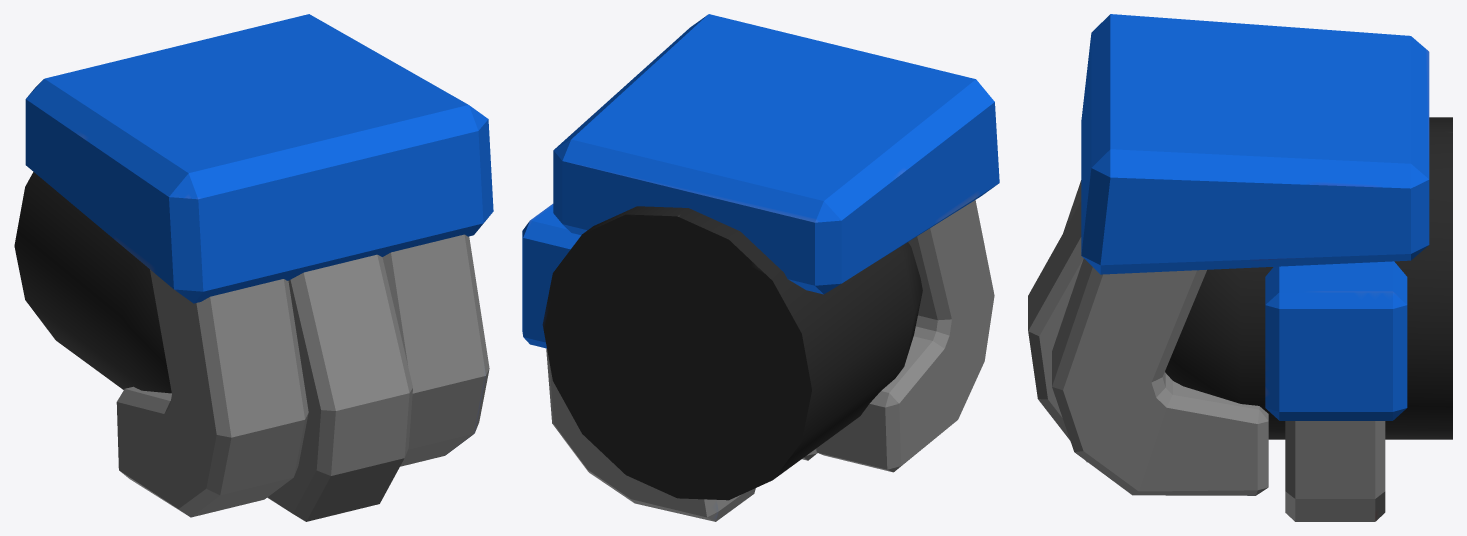
File: Glove02_R.fbx
3 renders of one model, left to right at view 1: azimuth 30°, elevation 25°; view 2: azimuth 150°, elevation 25°; view 3: azimuth 270°, elevation 25°, orthographic. The views are drawn at different scales.
Visible parts, largest first — view 1: Glove02_R; view 2: Glove02_R; view 3: Glove02_R.
Boxes of the visible parts, bbox=[...] form: Glove02_R: bbox=[14, 14, 493, 521]; Glove02_R: bbox=[522, 14, 999, 521]; Glove02_R: bbox=[1028, 14, 1452, 521].
Size of the model in its own units: 53.2 by 57.87 by 56.09.
Materials: 1 (1 with a texture image).
